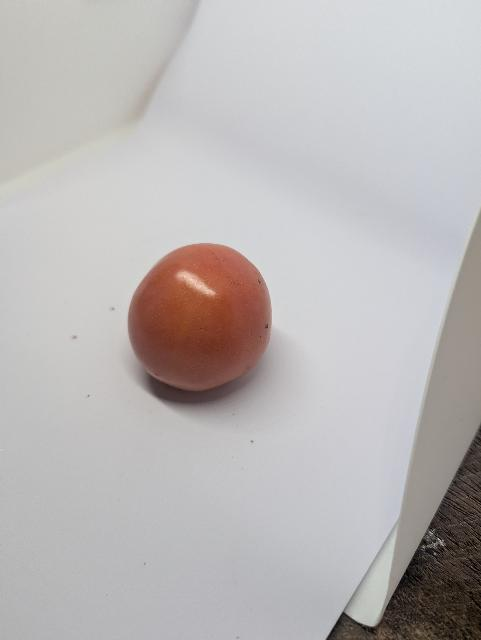red: (106, 212, 303, 419)
